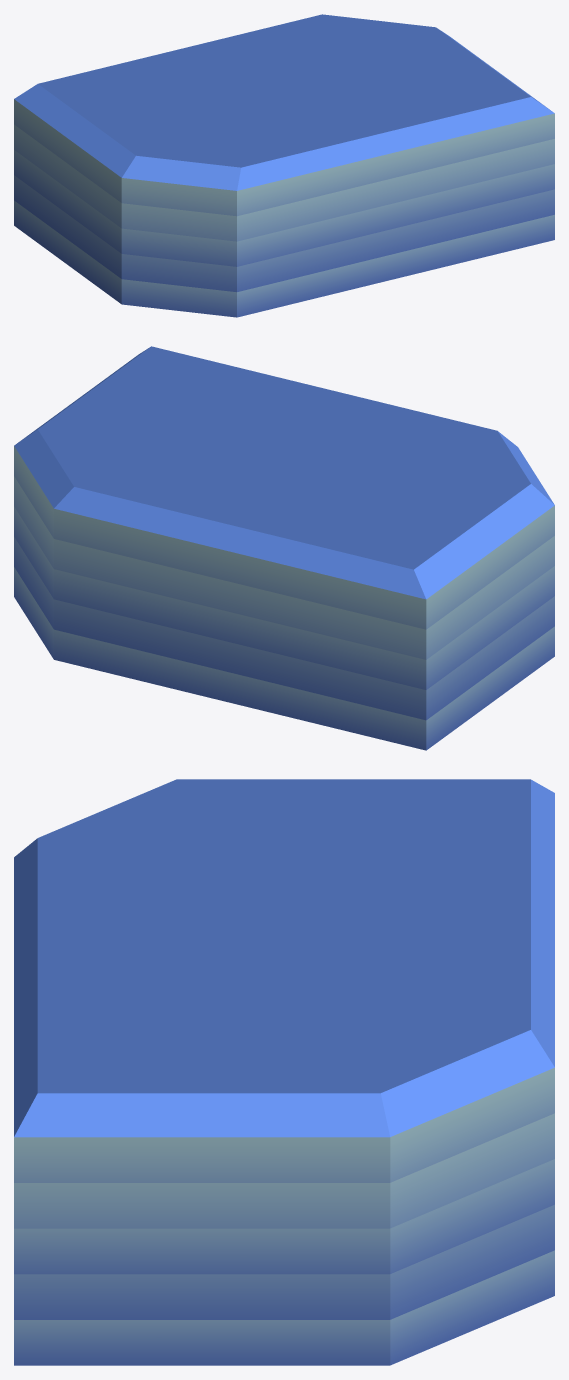
File: StoneWall040.fbx
3 views of the same model, one above another, from view 1: azimuth 30°, elevation 25°; view 2: azimuth 150°, elevation 25°; view 3: azimuth 270°, elevation 25° (orthographic). The views are drawn at different scales.
Visible parts, largest first — view 1: StoneWall040; view 2: StoneWall040; view 3: StoneWall040.
Boxes of the visible parts, box(x1,y1,x2,y2) form: StoneWall040: box(14, 14, 554, 317); StoneWall040: box(14, 346, 554, 750); StoneWall040: box(14, 779, 554, 1365).
Bounding box in the file's own units: 533 × 186 × 354.
